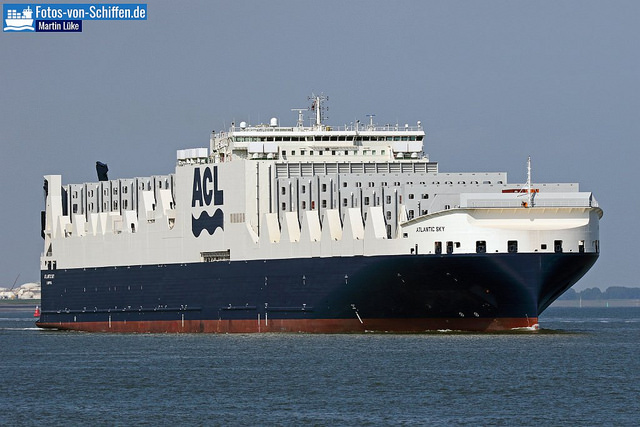container_ship: (38, 92, 602, 336)
